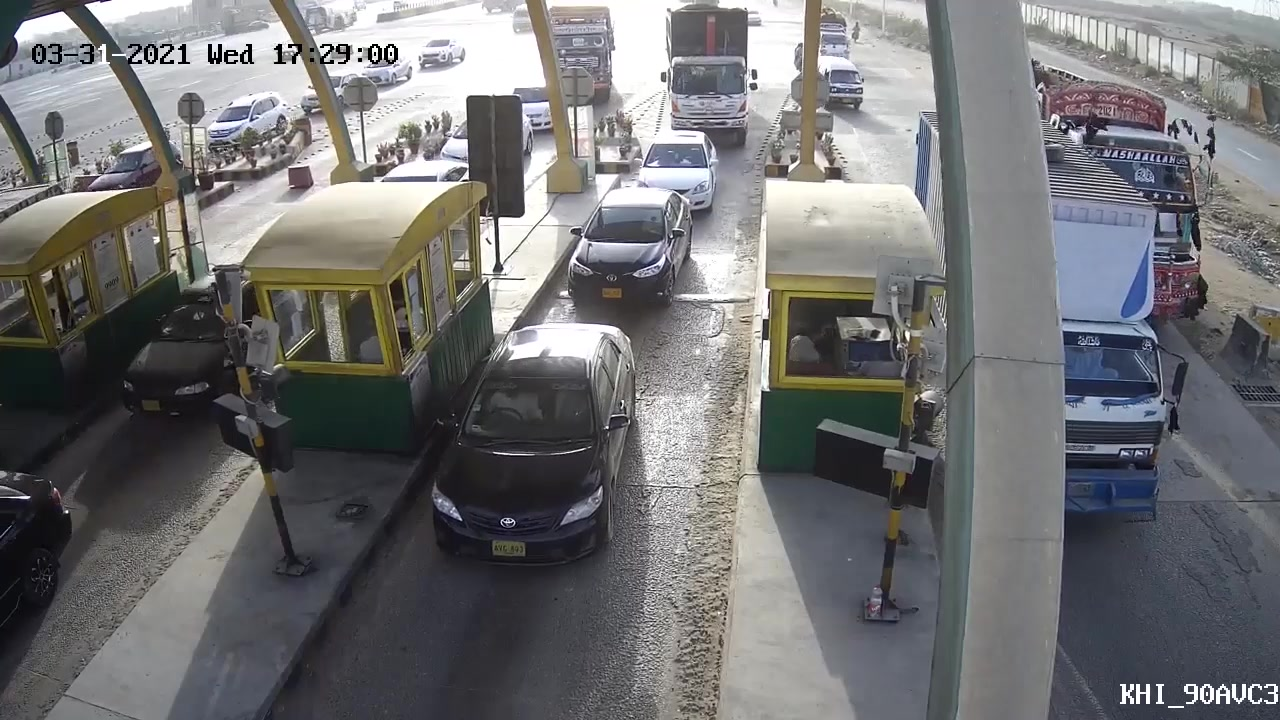F1: (409, 314, 642, 587)
